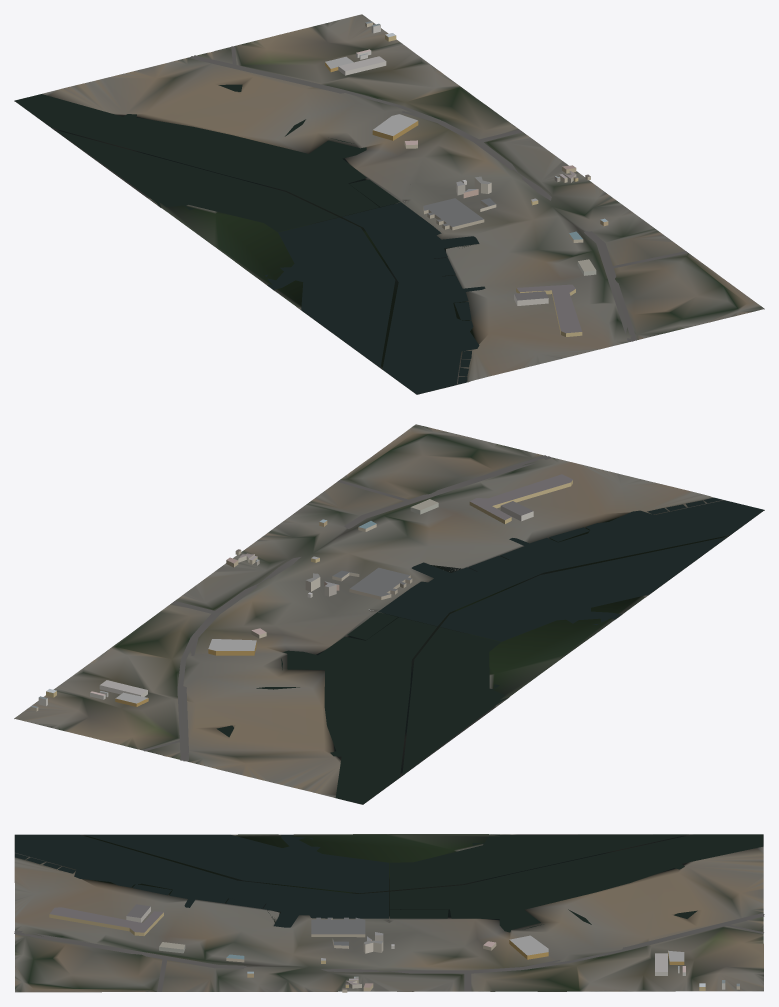
3 views of the same model, one above another, from view 1: azimuth 30°, elevation 25°; view 2: azimuth 150°, elevation 25°; view 3: azimuth 270°, elevation 25° (orthographic). The views are drawn at different scales.
Visible parts, largest first — view 1: ground, water, buildings, roads; view 2: ground, water, buildings, roads; view 3: ground, water, buildings, roads.
Boxes of the visible parts, x1,y1,x2,y2 form: ground: (14,14,764,394); water: (15,84,485,394); buildings: (325,21,608,336); roads: (189,46,687,341); ground: (14,424,764,804); water: (216,497,763,804); buildings: (30,474,572,711); roads: (142,455,551,761); ground: (14,834,763,992); water: (15,834,763,932); buildings: (49,904,739,992); roads: (14,913,764,991).
Bounding box in the file's own units: 1410 × 42.87 × 2809.
